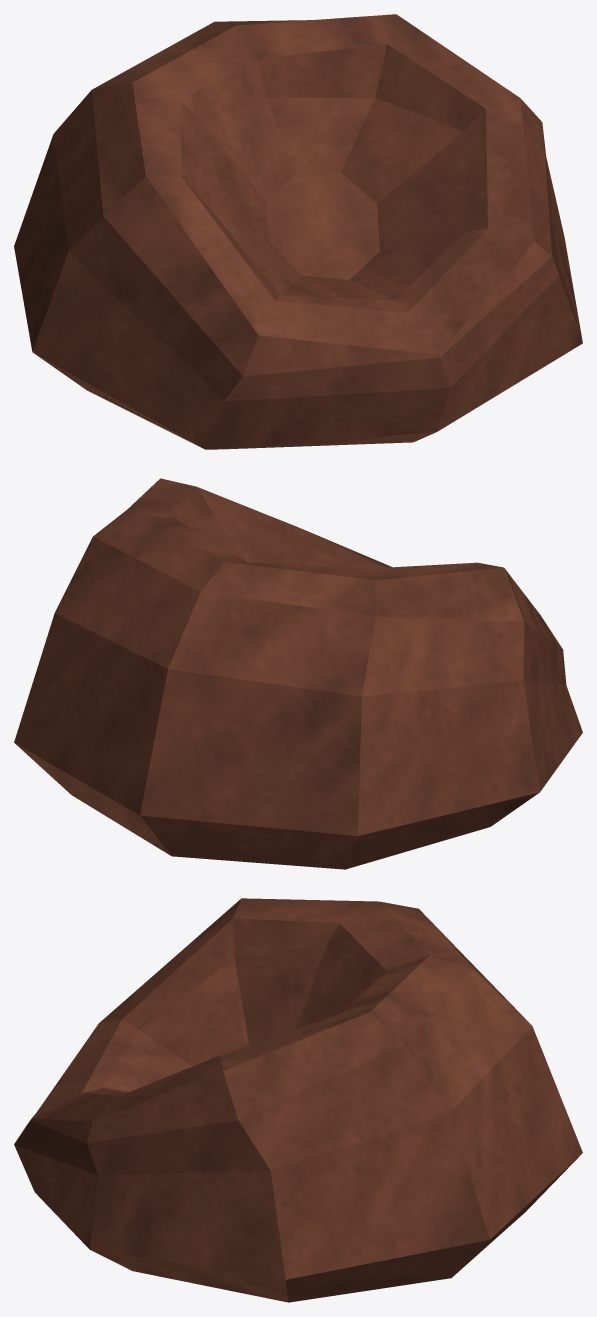
The model's file is beanbag_red.obj.
The picture shows the model from 3 angles, top to bottom: view 1: azimuth 30°, elevation 25°; view 2: azimuth 150°, elevation 25°; view 3: azimuth 270°, elevation 25°; orthographic projection. The views are drawn at different scales.
Visible parts, largest first — view 1: beanbag_red; view 2: beanbag_red; view 3: beanbag_red.
Part boxes in pixels (<box>): beanbag_red: <box>14,14,582,449</box>; beanbag_red: <box>14,478,582,869</box>; beanbag_red: <box>14,898,582,1302</box>.
Size of the model in its own units: 1.69 by 0.8727 by 1.69.
